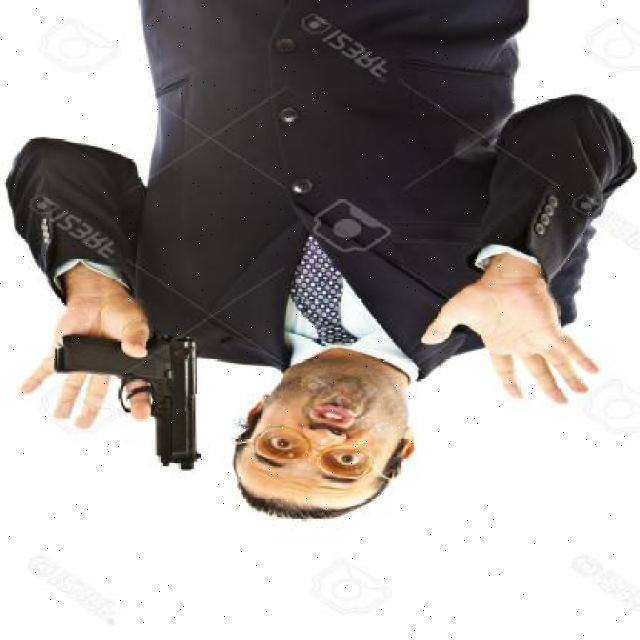gun: (32, 311, 222, 498)
